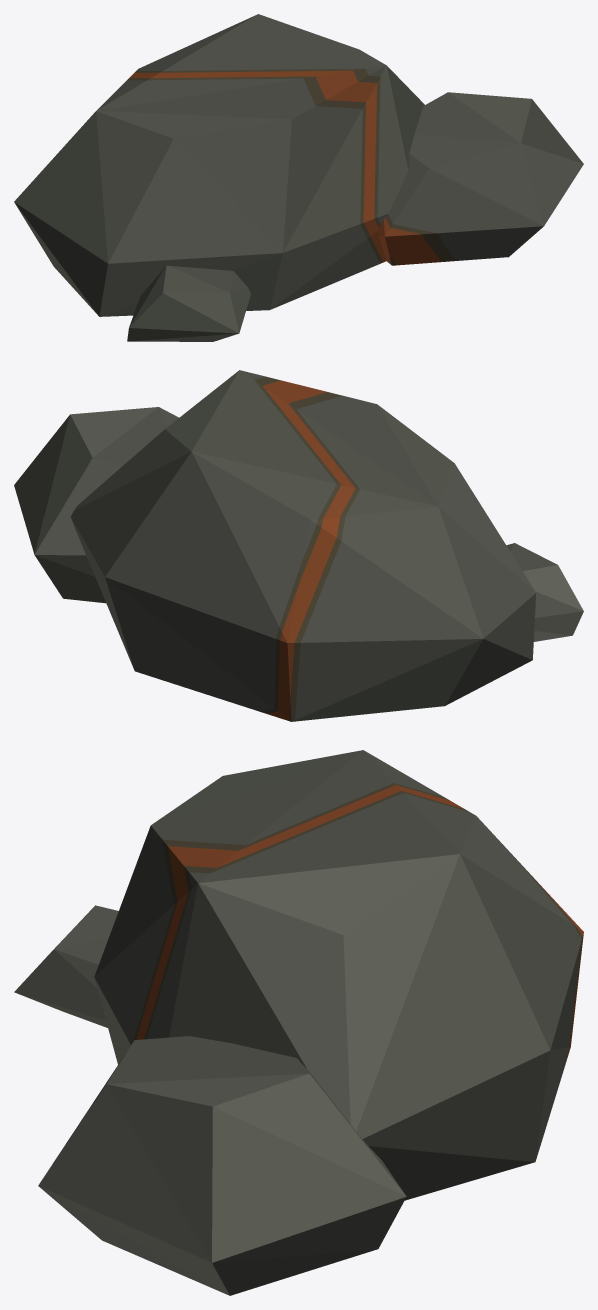
Rendered from ore_copper_v01_lod0.glb.
3 renders of one model, top to bottom at view 1: azimuth 30°, elevation 25°; view 2: azimuth 150°, elevation 25°; view 3: azimuth 270°, elevation 25°, orthographic. The views are drawn at different scales.
Parts seen in each view (by area): view 1: ore_copper_v01_lod0; view 2: ore_copper_v01_lod0; view 3: ore_copper_v01_lod0.
Part boxes in pixels (left/top/right/bottom): ore_copper_v01_lod0: left=14, top=14, right=583, bottom=341; ore_copper_v01_lod0: left=14, top=370, right=583, bottom=721; ore_copper_v01_lod0: left=14, top=750, right=583, bottom=1295.
Bounding box in the file's own units: 2.86 × 1.04 × 1.85.
